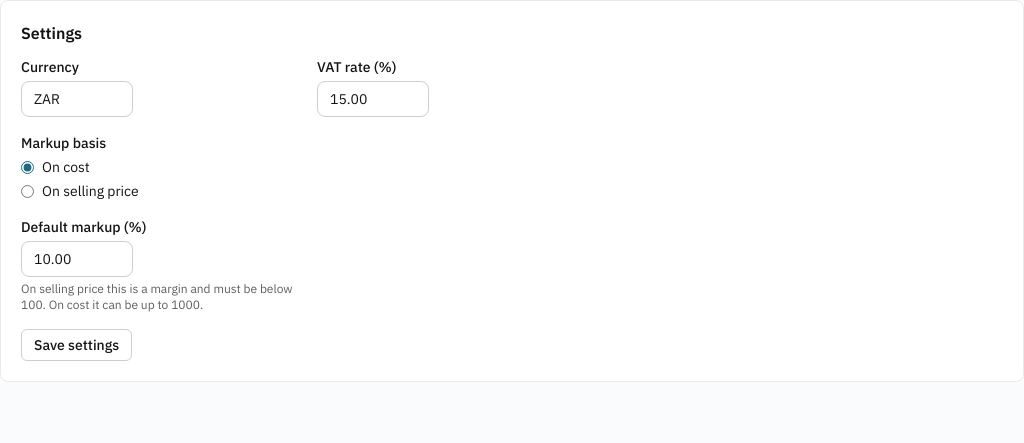
Scenario: SettingsCard › sends nothing when Default markup (%) is 1001
The width and height of the screenshot is (1024, 443).
Replace the text in the field labelled "Default markup (%)" with "1001". click: {"x": 77, "y": 259}
box: [21,241,133,277]
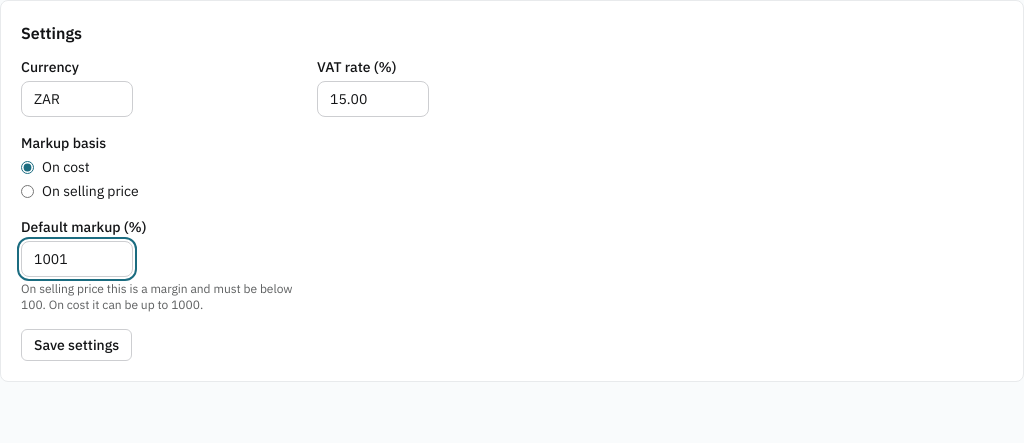
Click the button "Save settings". click: {"x": 77, "y": 345}
box: [21,329,132,361]
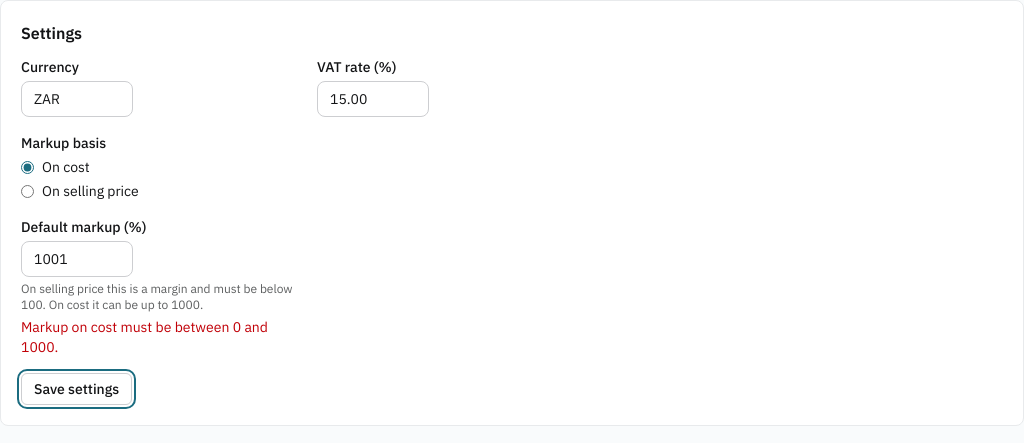
Result: the text "Markup on cost must be between 0 and 1000." is shown at [21,317,301,357]
